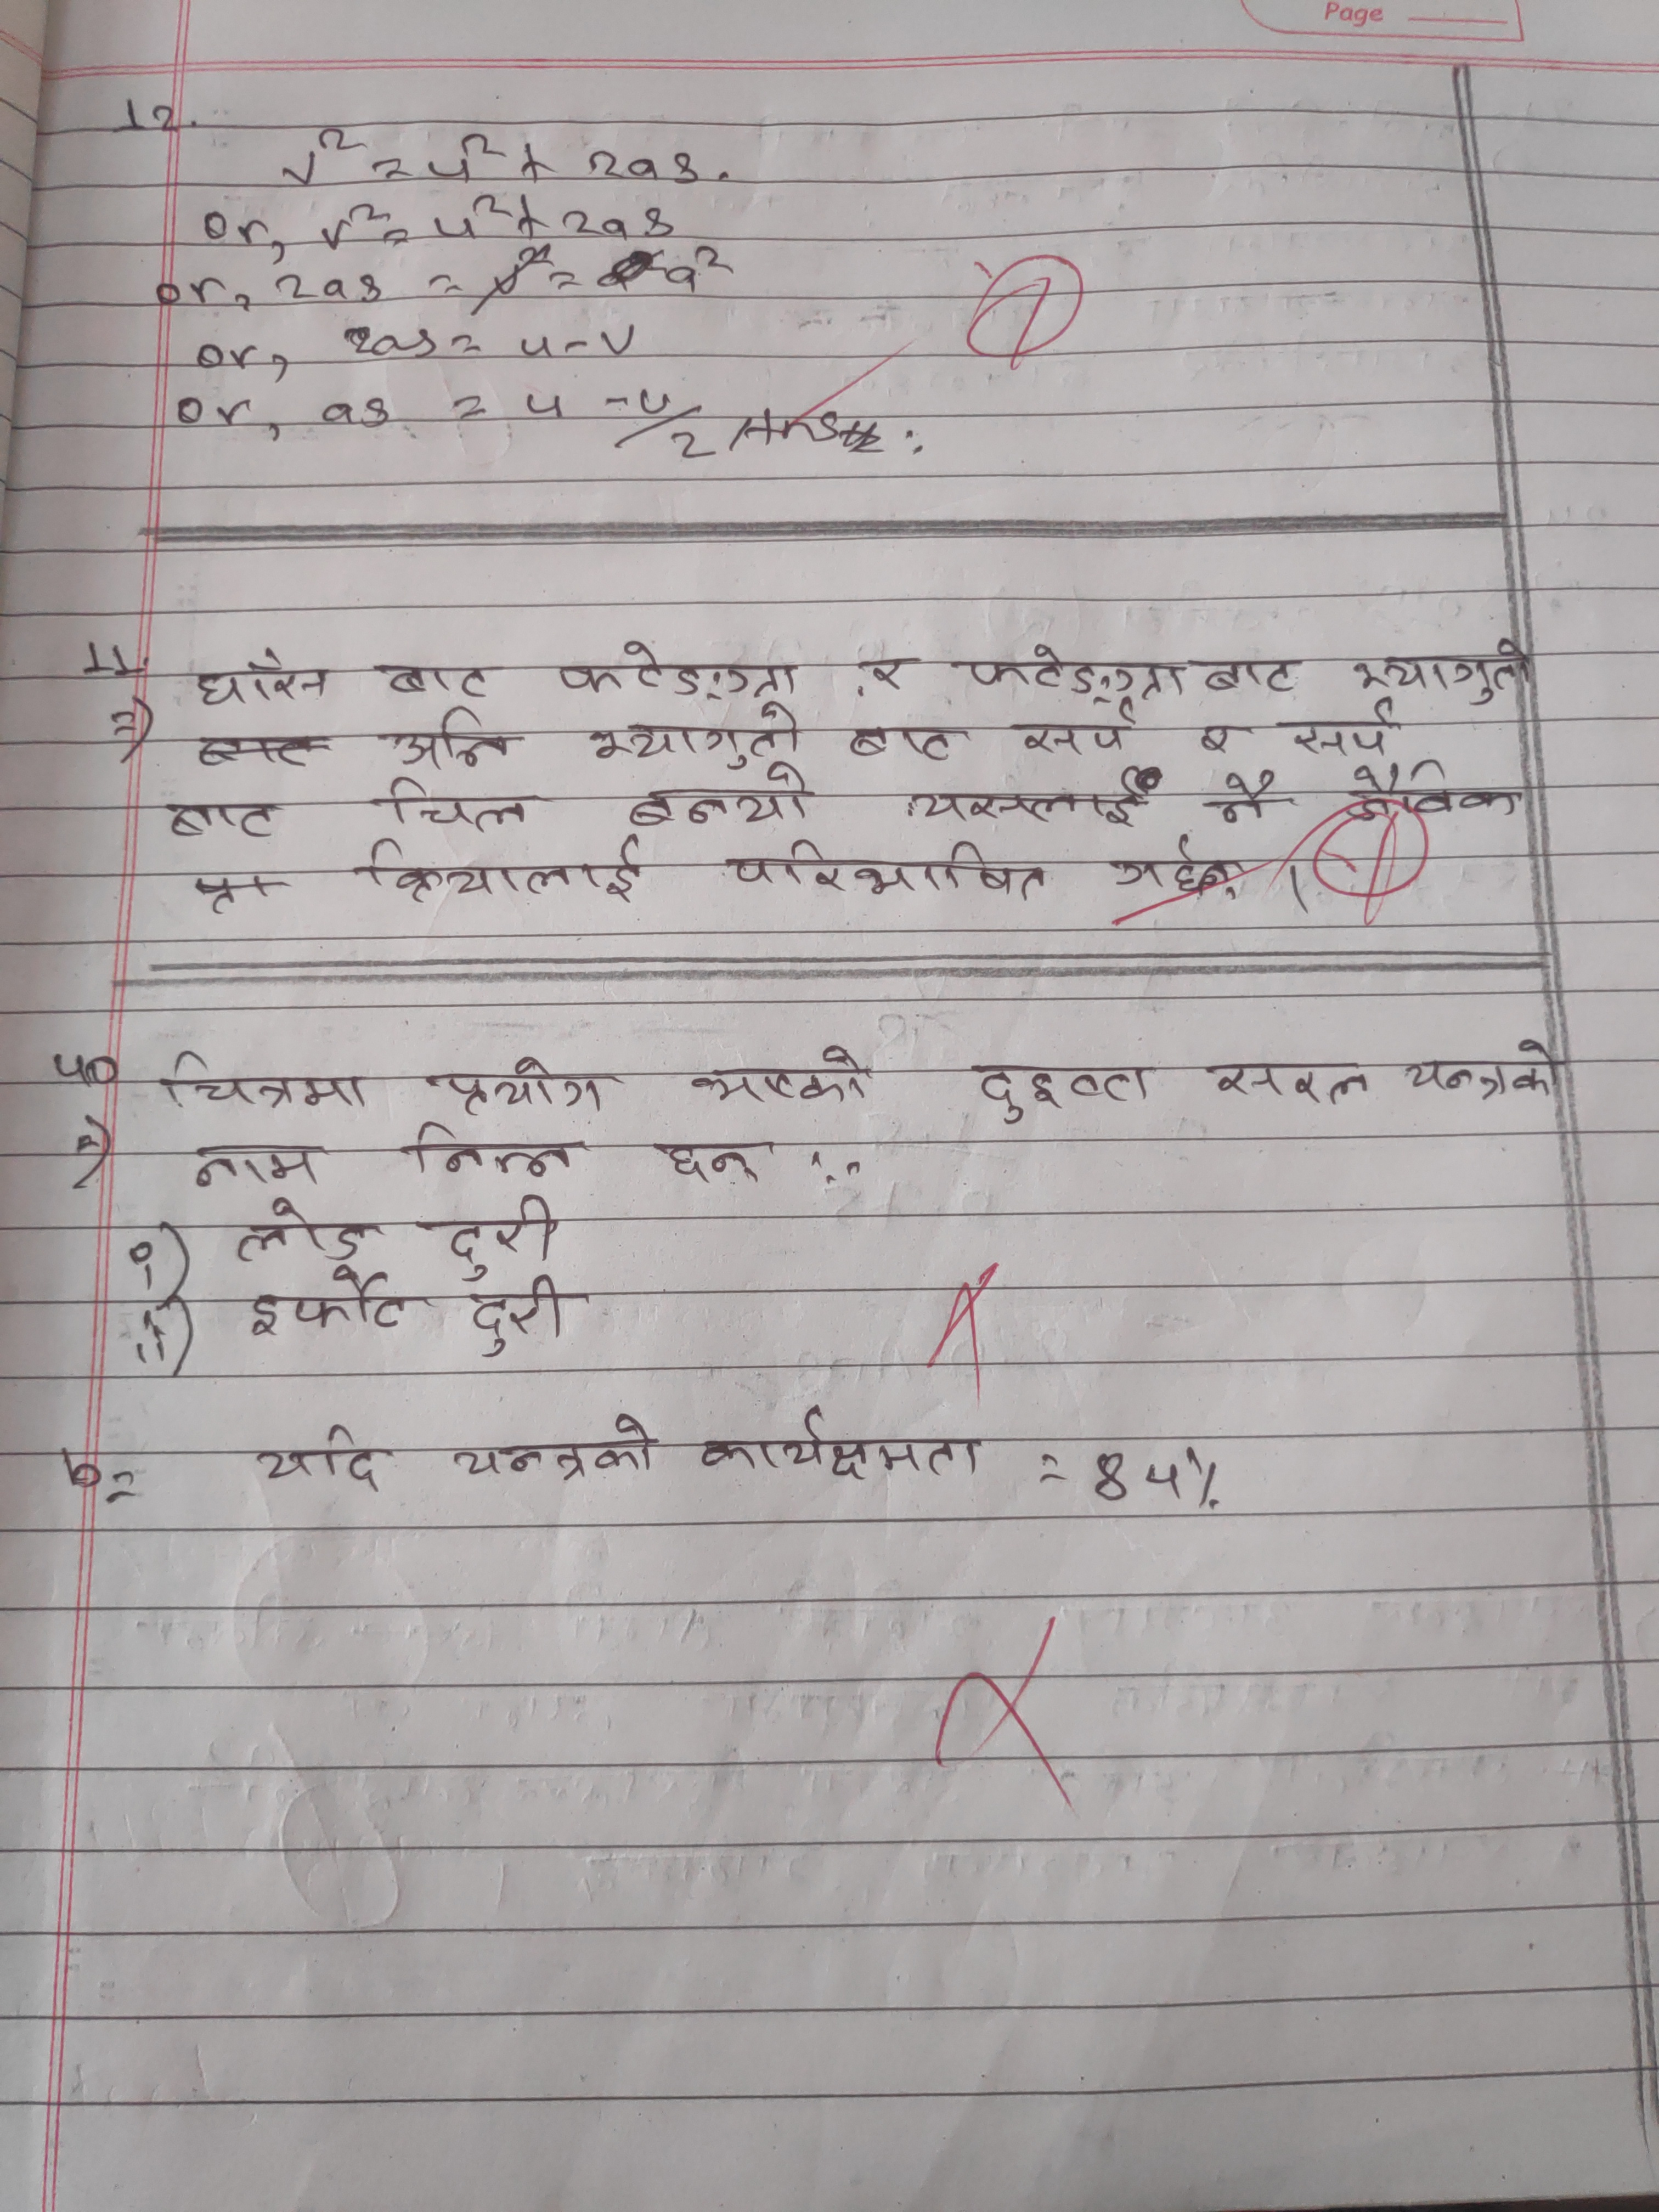text: (697, 1402, 992, 1484), (352, 833, 647, 906), (728, 838, 1049, 904), (953, 641, 1297, 702), (451, 1409, 659, 1489), (904, 763, 1143, 831), (558, 637, 805, 700), (587, 700, 803, 772), (246, 1263, 416, 1346), (160, 1047, 369, 1113), (964, 1055, 1155, 1127), (1345, 632, 1541, 702), (688, 1040, 877, 1111), (1344, 756, 1523, 826), (622, 768, 816, 831), (436, 1050, 619, 1113), (406, 1120, 584, 1181), (1405, 1038, 1565, 1104), (436, 1193, 558, 1277), (256, 1423, 387, 1500), (234, 1198, 373, 1268), (382, 770, 538, 831), (1114, 829, 1244, 900), (1208, 1054, 1373, 1109), (192, 650, 333, 711), (465, 1273, 570, 1355), (389, 705, 511, 773), (183, 1141, 329, 1193), (1283, 700, 1412, 758), (1014, 700, 1143, 756), (162, 792, 286, 846), (375, 653, 497, 704), (845, 718, 969, 763), (652, 1139, 763, 1184), (1208, 770, 1283, 829), (864, 643, 908, 690), (1192, 721, 1239, 759)
